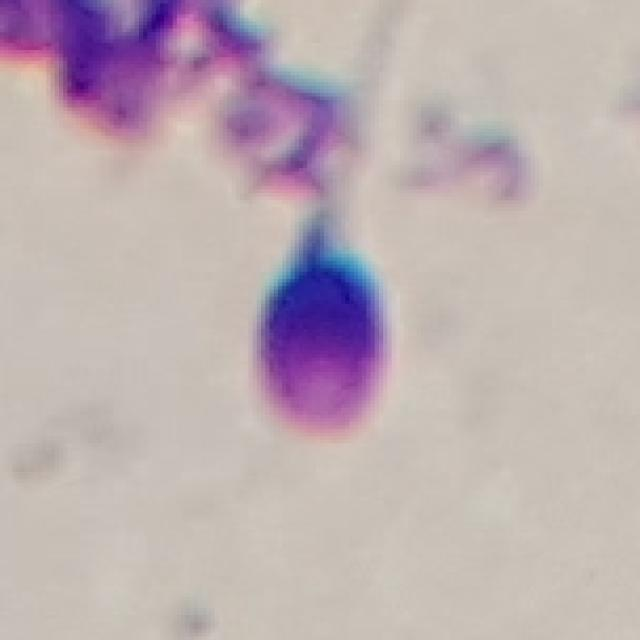normal sperm: (255, 157, 392, 440)
